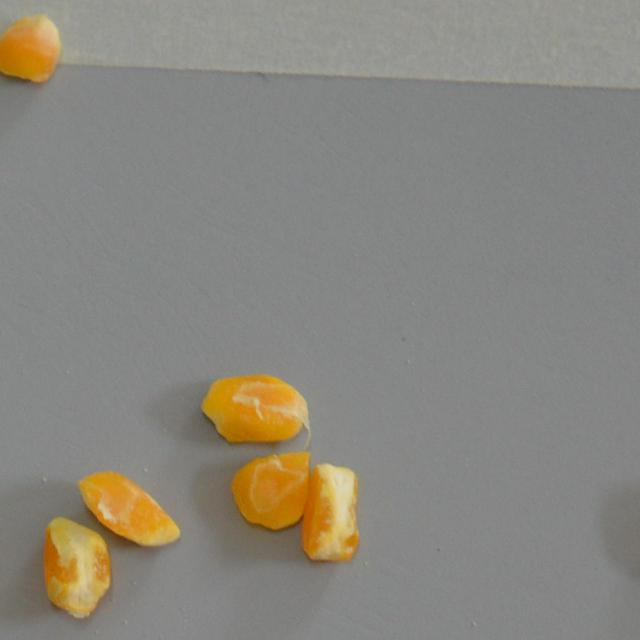estandar: (294, 461, 382, 561)
pelicula: (196, 356, 316, 448), (76, 461, 182, 551), (40, 510, 120, 624), (224, 436, 314, 533), (0, 0, 82, 88)
